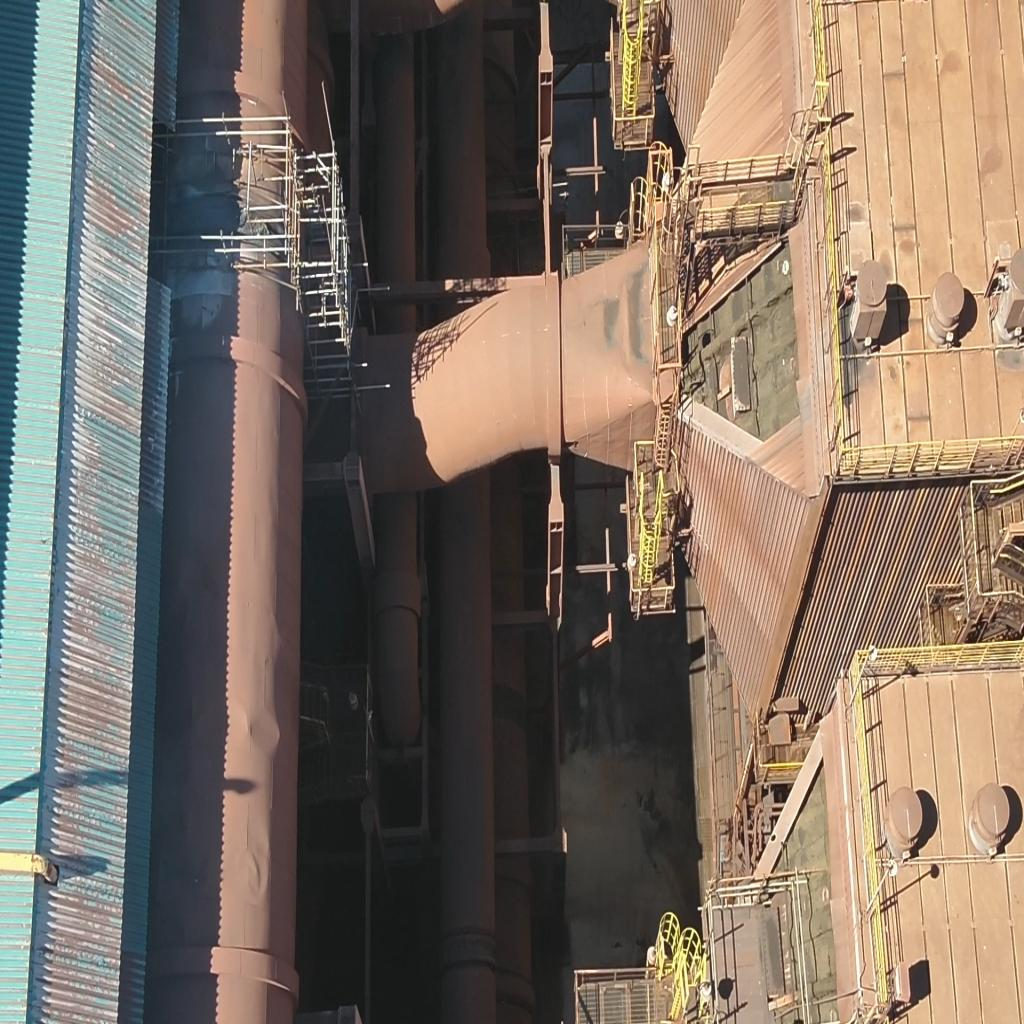Failures: (694, 237, 804, 433), (760, 799, 837, 1024)
